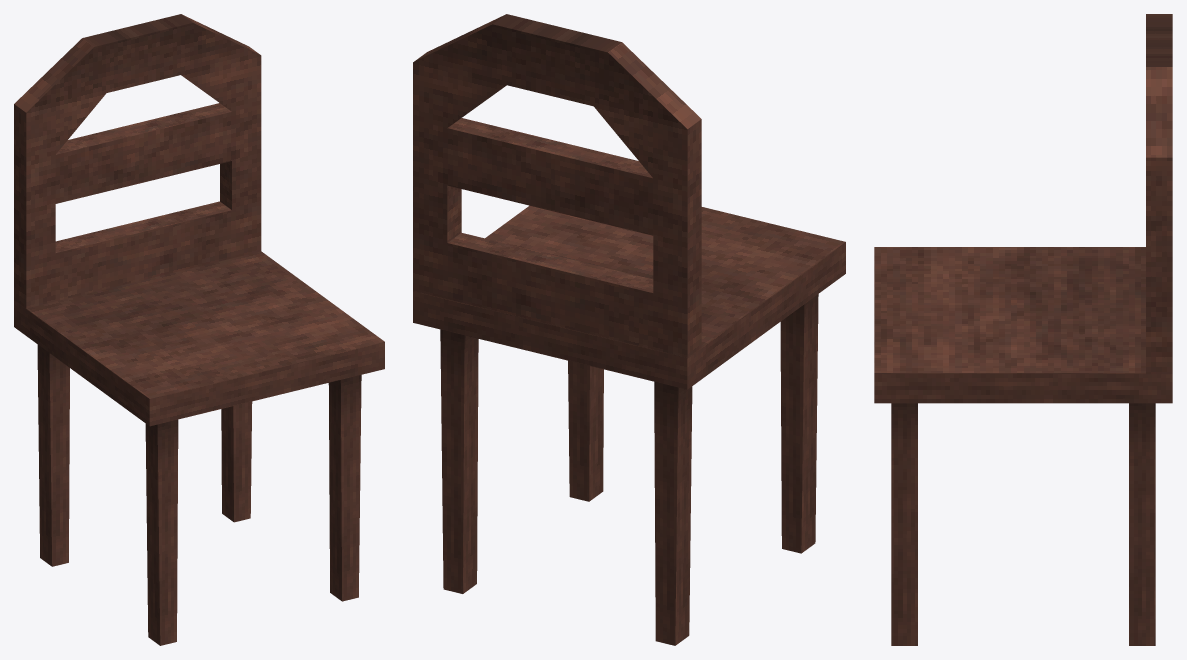
The model's file is chair.glb.
The picture shows the model from 3 angles, left to right: view 1: azimuth 30°, elevation 25°; view 2: azimuth 150°, elevation 25°; view 3: azimuth 270°, elevation 25°; orthographic projection. The views are drawn at different scales.
Parts seen in each view (by area): view 1: Cube.001; view 2: Cube.001; view 3: Cube.001.
Boxes of the visible parts, x1,y1,x2,y2 form: Cube.001: (14,14,384,645); Cube.001: (413,14,845,645); Cube.001: (874,14,1172,645).
Size of the model in its own units: 0.45 by 0.9182 by 0.45.
2 materials, 2 textured.
